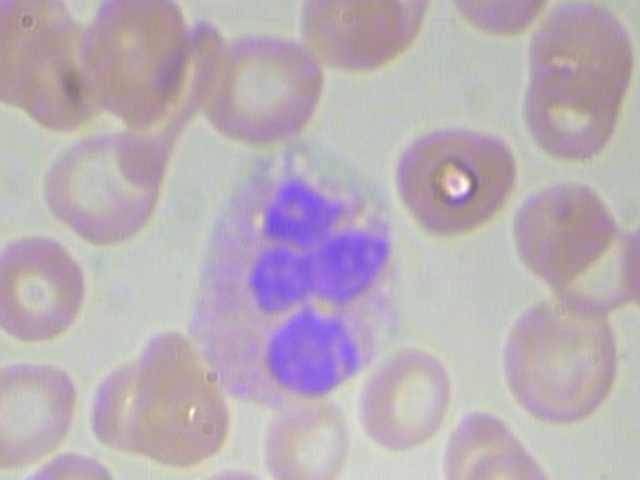RBC: (376, 113, 530, 246), (490, 291, 634, 425), (190, 33, 334, 144), (44, 129, 162, 246), (0, 228, 94, 360), (351, 344, 455, 453), (0, 356, 80, 475), (258, 398, 347, 480), (11, 443, 140, 480), (442, 440, 560, 480)
WBC: (181, 143, 417, 410)
